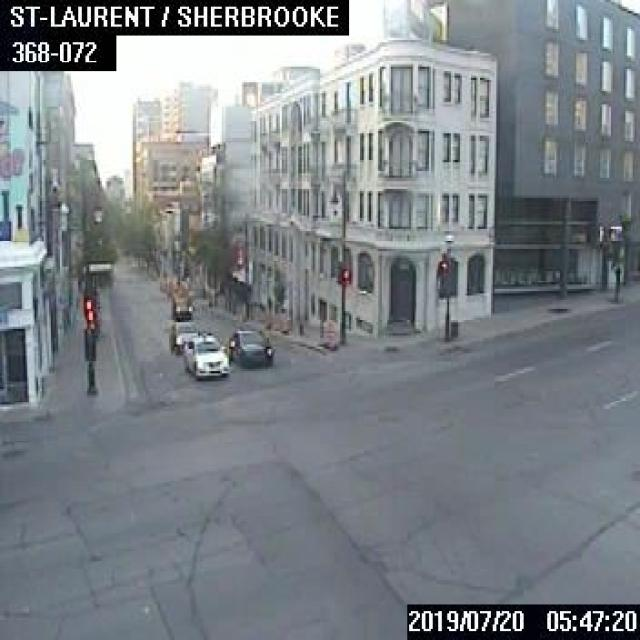construction: (325, 319, 333, 347), (280, 314, 286, 331)
vehicle: (182, 330, 228, 376), (229, 327, 273, 365), (166, 320, 198, 352), (170, 290, 191, 318)
